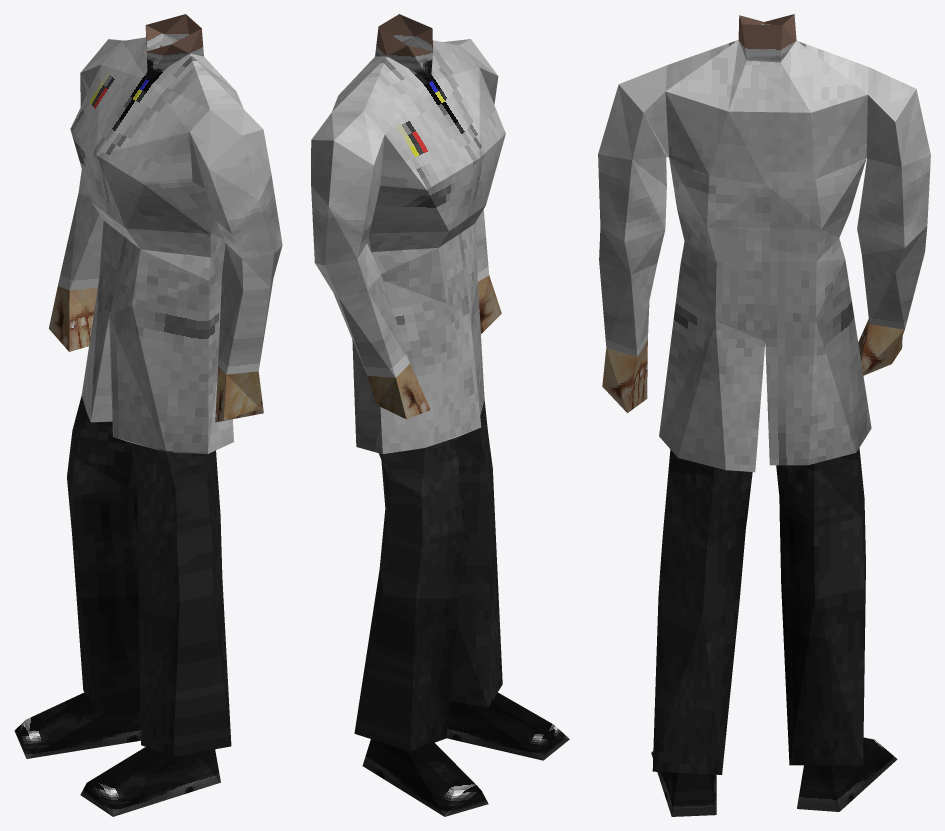
Rendered from primary_056.glb.
3 views of the same model, side by side, from view 1: azimuth 30°, elevation 25°; view 2: azimuth 150°, elevation 25°; view 3: azimuth 270°, elevation 25° (orthographic). The views are drawn at different scales.
Parts seen in each view (by area): view 1: Object; view 2: Object; view 3: Object.
Boxes of the visible parts, x1,y1,x2,y2 form: Object: (14, 14, 282, 816); Object: (311, 14, 569, 816); Object: (598, 14, 930, 816).
Size of the model in its own units: 0.4297 by 1.83 by 0.6881.
Materials: 78 (78 with a texture image).
